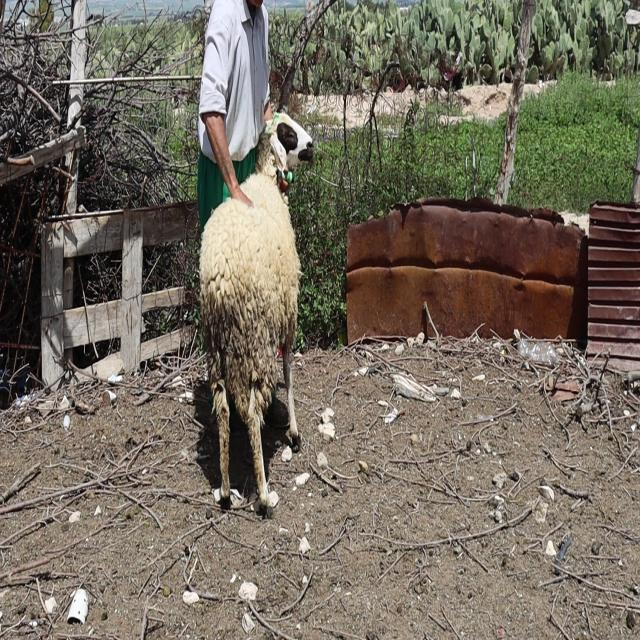Score_3: (199, 113, 313, 508)
